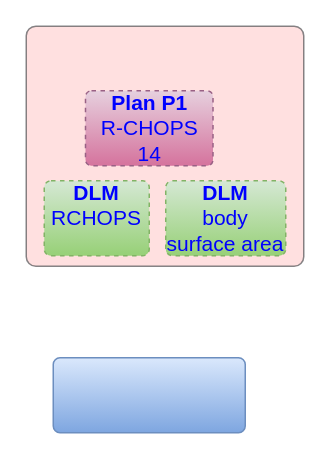
Some shapes in this 330 by 459 pixel diagram are drawn without their labels. The box of each missing label's shape, as (x1, y1, x2, y2) in pixels:
Execution container (patient A/Plan P1): (25, 25, 304, 266)
Subject data set (patient A): (52, 356, 245, 433)
